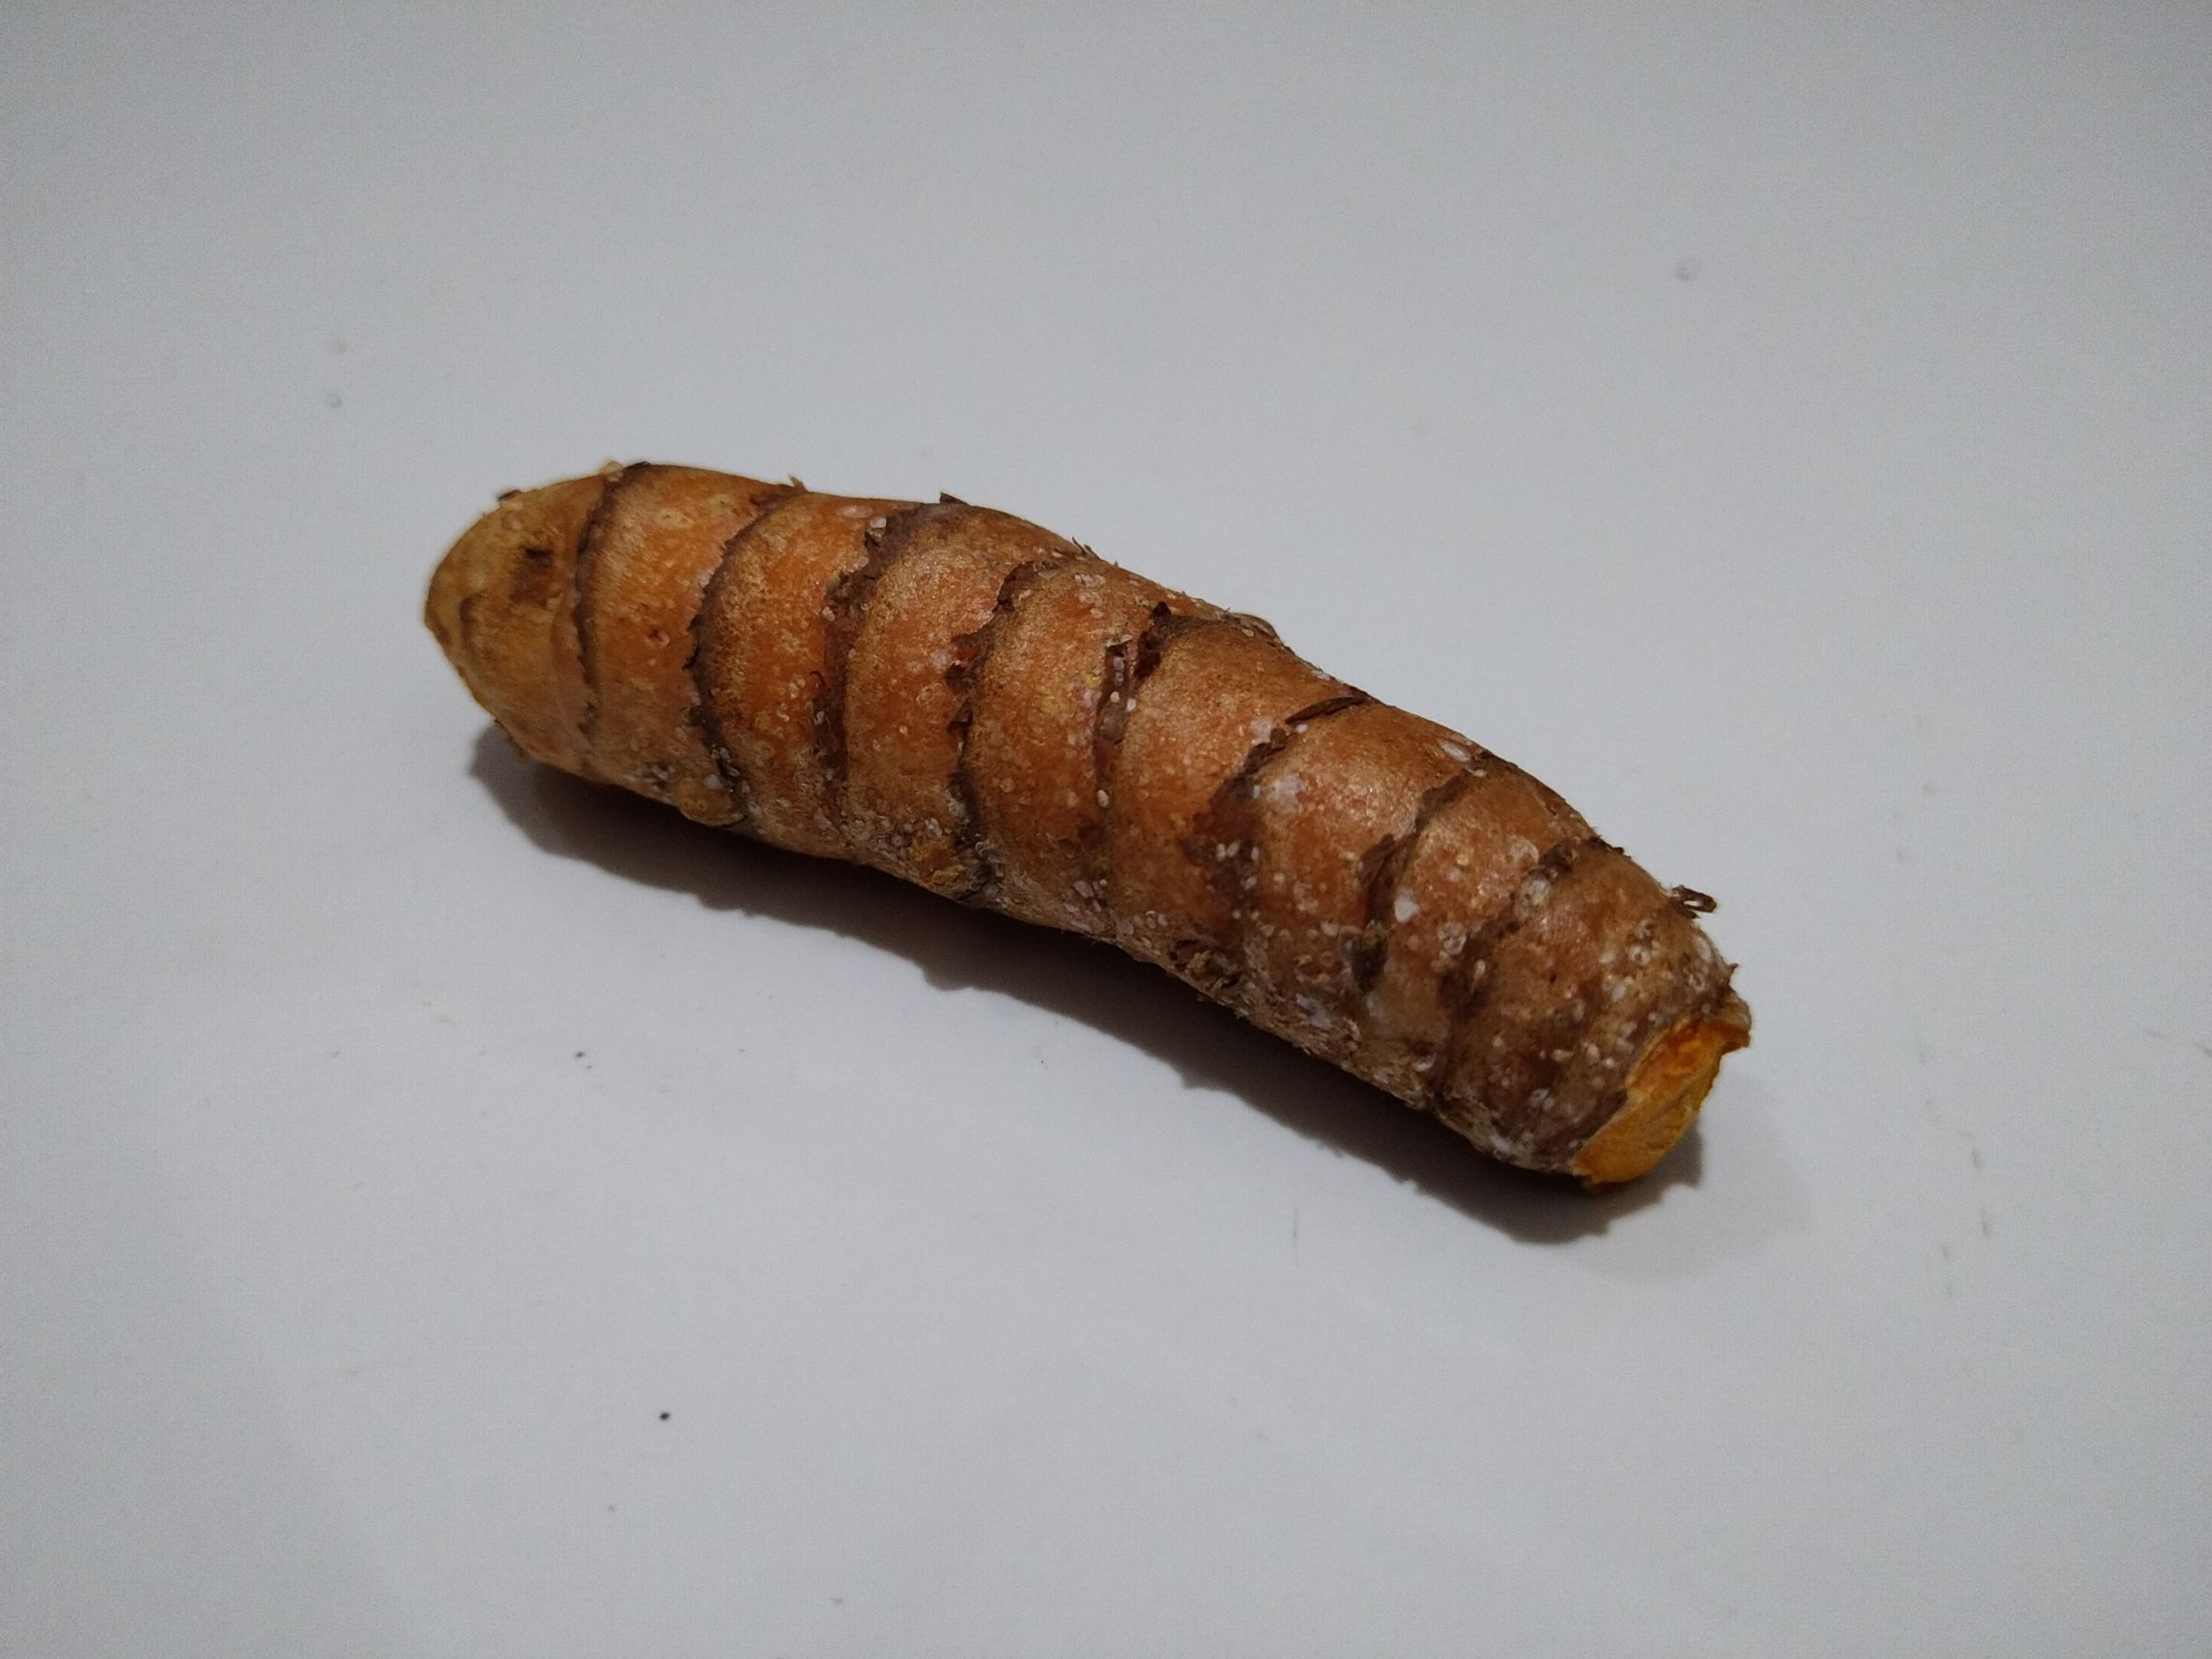Kunyit: (434, 460, 1731, 1286)
